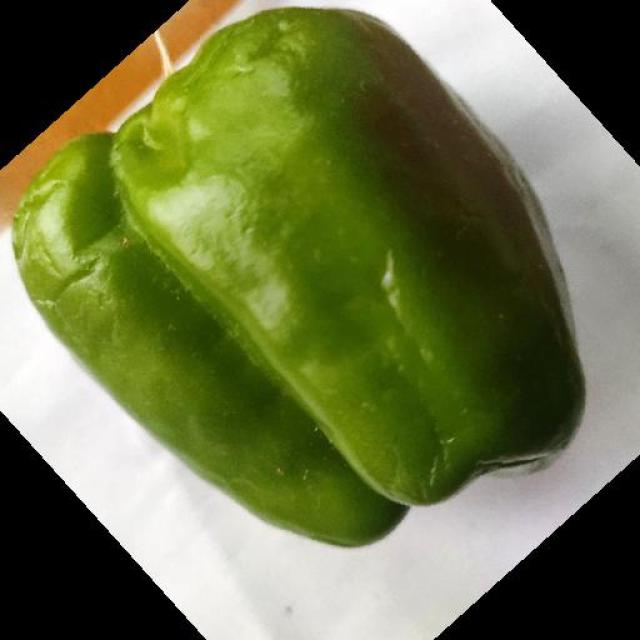Stale_Capsicum: (48, 102, 539, 438)
